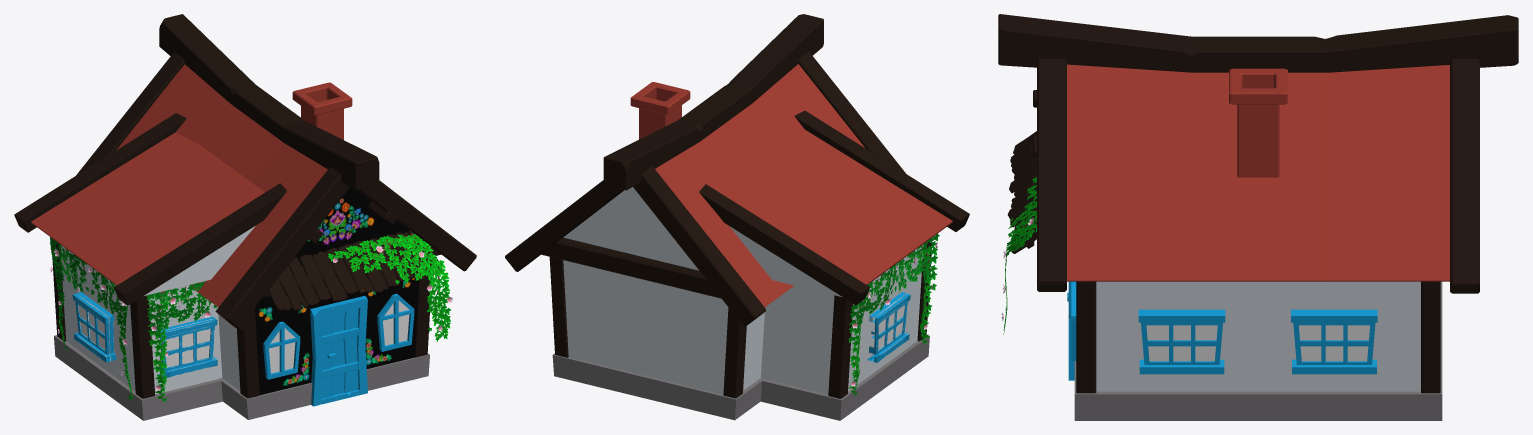
The model's file is House_1.fbx.
3 views of the same model, side by side, from view 1: azimuth 30°, elevation 25°; view 2: azimuth 150°, elevation 25°; view 3: azimuth 270°, elevation 25° (orthographic). The views are drawn at different scales.
Parts seen in each view (by area): view 1: Window front.001; view 2: Window front.001; view 3: Window front.001.
Boxes of the visible parts, left/top/right/bottom form: Window front.001: left=14, top=14, right=476, bottom=420; Window front.001: left=505, top=14, right=969, bottom=420; Window front.001: left=998, top=14, right=1518, bottom=420.
Size of the model in its own units: 730 by 553 by 763.
